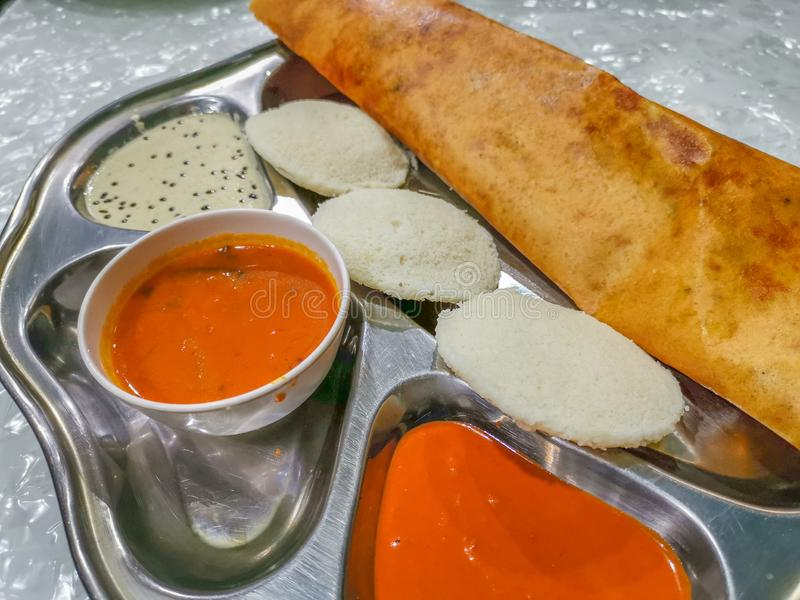dosa: (246, 1, 800, 459)
